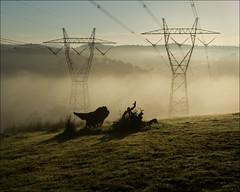power_tower: (138, 15, 222, 119), (41, 23, 120, 123)
